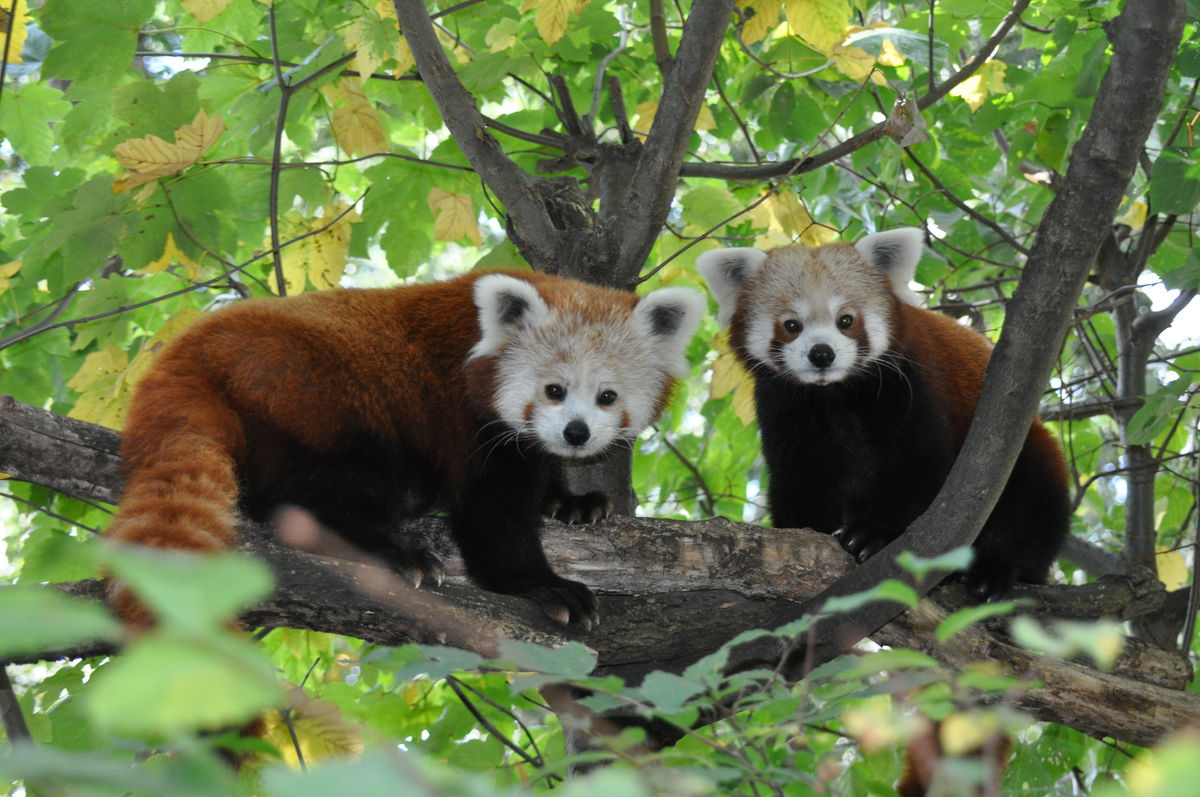red_panda: (121, 263, 710, 678), (701, 225, 1078, 595)
